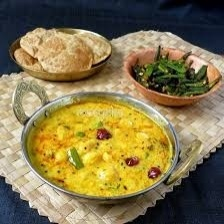dal: (28, 100, 174, 197)
